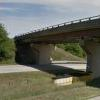Bridge: (8, 11, 95, 52)
